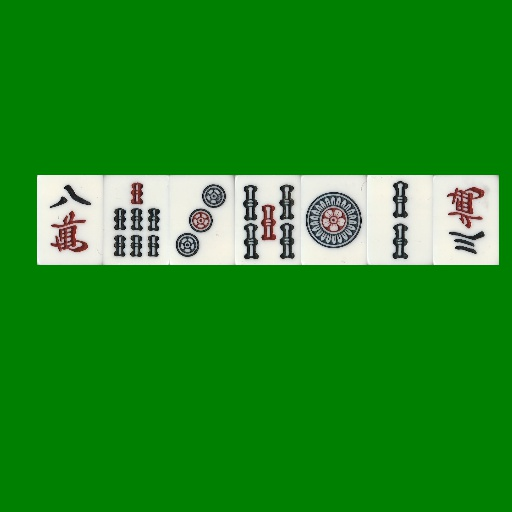1p: (301, 175, 367, 265)
2s: (367, 175, 433, 265)
3m: (433, 175, 499, 265)
3p: (169, 175, 235, 265)
5s: (235, 175, 301, 265)
7s: (103, 175, 169, 265)
8m: (37, 175, 103, 265)
